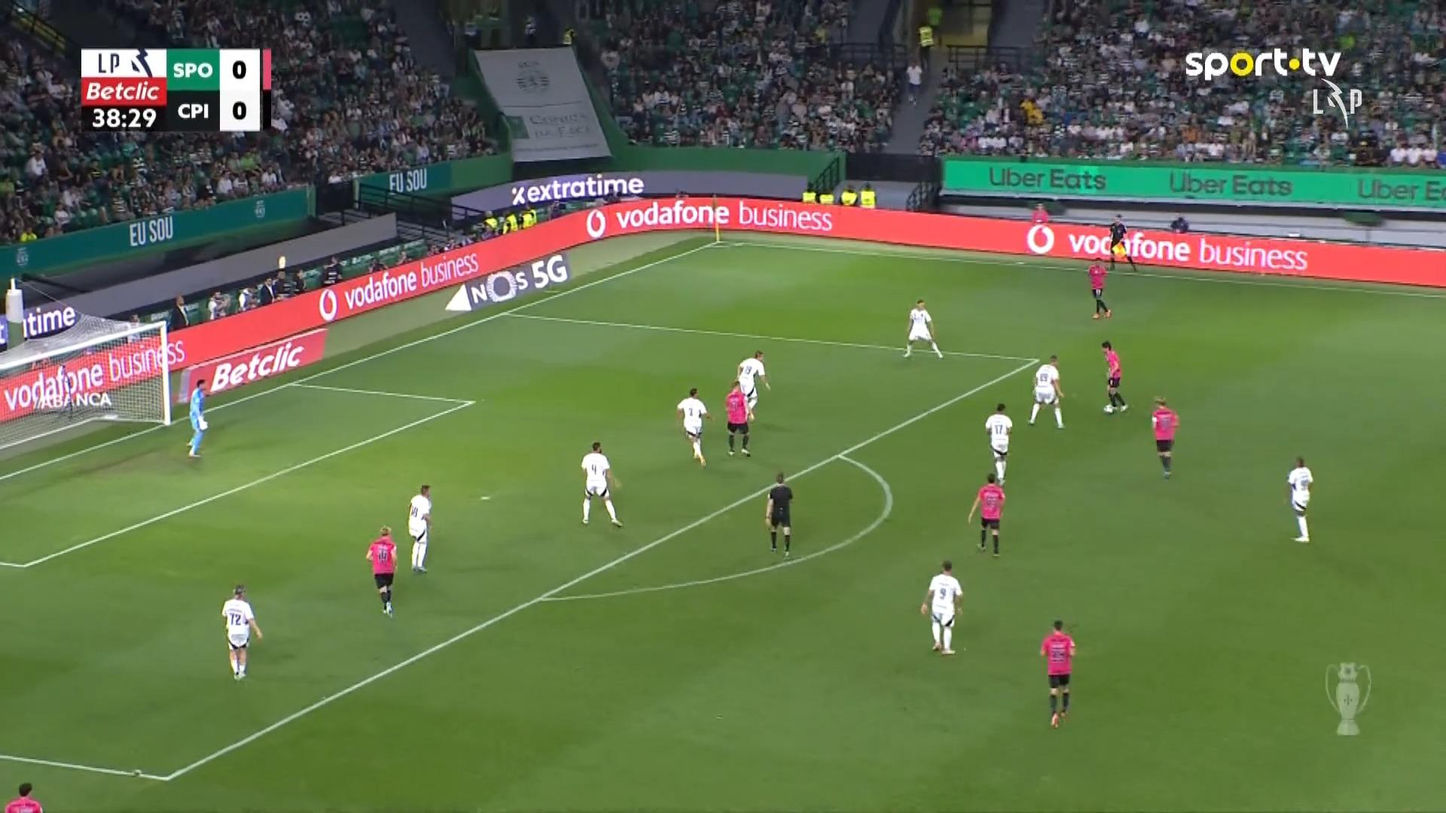goalkeeper: (185, 377, 210, 458)
player: (920, 559, 963, 654), (221, 583, 262, 681), (1039, 619, 1075, 728), (579, 441, 623, 527), (966, 471, 1005, 556), (365, 525, 398, 617), (1027, 353, 1065, 428), (676, 387, 712, 466), (736, 349, 770, 422), (902, 299, 943, 359), (1150, 395, 1179, 479), (984, 401, 1012, 486), (1286, 455, 1313, 542), (407, 483, 432, 573), (724, 379, 752, 456), (1100, 340, 1128, 413), (1087, 257, 1111, 319), (5, 781, 43, 811)
referee: (764, 471, 794, 556), (1108, 213, 1137, 272)
